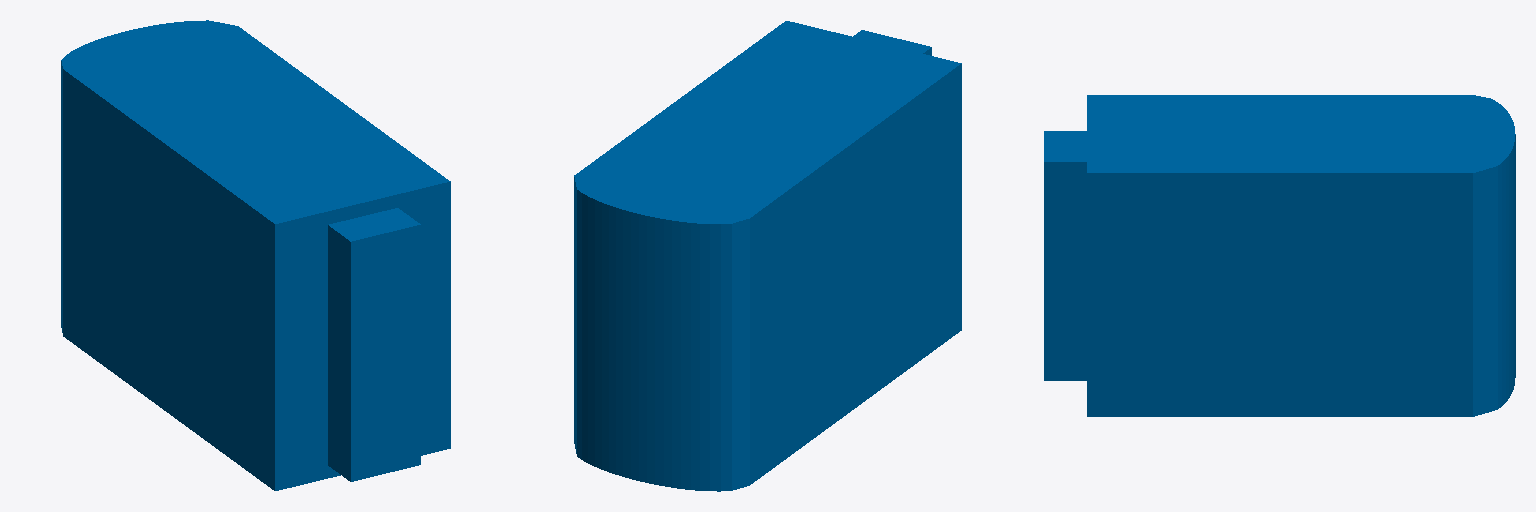
robot.urdf — 3v3_42.5.30.0.27.5_35.0.40.0.25.0_1.0.975_64:
<?xml version="1.0" ?>
<robot name="3v3_42.5.30.0.27.5_35.0.40.0.25.0_1.0.975_64">

    <link name="palm">
        <visual>
            <origin rpy="0 0 0" xyz="0 0 0"/>
            <geometry>
                <mesh filename="obj_files/palm.obj" scale="1 1 1"/>
            </geometry>
        </visual>
        <collision>
            <geometry>
                <mesh filename="obj_files/palm_collision.obj" scale="1 1 1"/>
            </geometry>
        </collision>
    </link>

    <link name="finger0_segment0">
        <visual>
            <origin rpy="0 0 0" xyz="0 0 0"/>
            <geometry>
                <mesh filename="obj_files/finger0_segment0.obj" scale="1 1 1"/>
            </geometry>
        </visual>
        <collision>
            <geometry>
                <mesh filename="obj_files/finger0_segment0_collision.obj" scale="1 1 1"/>
            </geometry>
        </collision>
    </link>

    <joint name="finger0_segment0_joint" type="revolute">
        <parent link="palm"/>
        <child link="finger0_segment0"/>
        <origin rpy="0 0 0" xyz="0.032 0 0.0"/>
        <axis xyz="0 0 1"/>
        <limit effort="1000.0" lower="-3.14" upper="3.14" velocity="0.5"/>
    </joint>

    <link name="finger0_segment1">
        <visual>
            <origin rpy="0 0 0" xyz="0 0 0"/>
            <geometry>
                <mesh filename="obj_files/finger0_segment1.obj" scale="1 1 1"/>
            </geometry>
        </visual>
        <collision>
            <geometry>
                <mesh filename="obj_files/finger0_segment1_collision.obj" scale="1 1 1"/>
            </geometry>
        </collision>
    </link>

    <joint name="finger0_segment1_joint" type="revolute">
        <parent link="finger0_segment0"/>
        <child link="finger0_segment1"/>
        <origin rpy="0 0 0" xyz="0 0.06042531645569619 0"/>
        <axis xyz="0 0 1"/>
        <limit effort="1000.0" lower="-3.14" upper="3.14" velocity="0.5"/>
    </joint>

    <link name="finger0_segment2">
        <visual>
            <origin rpy="0 0 0" xyz="0 0 0"/>
            <geometry>
                <mesh filename="obj_files/finger0_segment2.obj" scale="1 1 1"/>
            </geometry>
        </visual>
        <collision>
            <geometry>
                <mesh filename="obj_files/finger0_segment2_collision.obj" scale="1 1 1"/>
            </geometry>
        </collision>
    </link>

    <joint name="finger0_segment2_joint" type="revolute">
        <parent link="finger0_segment1"/>
        <child link="finger0_segment2"/>
        <origin rpy="0 0 0" xyz="0 0.04265316455696202 0"/>
        <axis xyz="0 0 1"/>
        <limit effort="1000.0" lower="-3.14" upper="3.14" velocity="0.5"/>
    </joint>

    <link name="finger1_segment0">
        <visual>
            <origin rpy="0 0 0" xyz="0 0 0"/>
            <geometry>
                <mesh filename="obj_files/finger1_segment0.obj" scale="1 1 1"/>
            </geometry>
        </visual>
        <collision>
            <geometry>
                <mesh filename="obj_files/finger1_segment0_collision.obj" scale="1 1 1"/>
            </geometry>
        </collision>
    </link>

    <joint name="finger1_segment0_joint" type="revolute">
        <parent link="palm"/>
        <child link="finger1_segment0"/>
        <origin rpy="0 0 0" xyz="-0.032 0 3.91886975727153e-18"/>
        <axis xyz="0 0 1"/>
        <limit effort="1000.0" lower="-3.14" upper="3.14" velocity="0.5"/>
    </joint>

    <link name="finger1_segment1">
        <visual>
            <origin rpy="0 0 0" xyz="0 0 0"/>
            <geometry>
                <mesh filename="obj_files/finger1_segment1.obj" scale="1 1 1"/>
            </geometry>
        </visual>
        <collision>
            <geometry>
                <mesh filename="obj_files/finger1_segment1_collision.obj" scale="1 1 1"/>
            </geometry>
        </collision>
    </link>

    <joint name="finger1_segment1_joint" type="revolute">
        <parent link="finger1_segment0"/>
        <child link="finger1_segment1"/>
        <origin rpy="0 0 0" xyz="0 0.0510379746835443 0"/>
        <axis xyz="0 0 1"/>
        <limit effort="1000.0" lower="-3.14" upper="3.14" velocity="0.5"/>
    </joint>

    <link name="finger1_segment2">
        <visual>
            <origin rpy="0 0 0" xyz="0 0 0"/>
            <geometry>
                <mesh filename="obj_files/finger1_segment2.obj" scale="1 1 1"/>
            </geometry>
        </visual>
        <collision>
            <geometry>
                <mesh filename="obj_files/finger1_segment2_collision.obj" scale="1 1 1"/>
            </geometry>
        </collision>
    </link>

    <joint name="finger1_segment2_joint" type="revolute">
        <parent link="finger1_segment1"/>
        <child link="finger1_segment2"/>
        <origin rpy="0 0 0" xyz="0 0.05832911392405063 0"/>
        <axis xyz="0 0 1"/>
        <limit effort="1000.0" lower="-3.14" upper="3.14" velocity="0.5"/>
    </joint>

</robot>

--- Render facts (derived) ---
Views: 3 orthographic renders of the robot side by side, from view 1: azimuth 30°, elevation 25°; view 2: azimuth 150°, elevation 25°; view 3: azimuth 270°, elevation 25°.
Robot: 3v3_42.5.30.0.27.5_35.0.40.0.25.0_1.0.975_64 — 7 links, 6 joints (6 revolute); root link palm; default pose: every joint at zero.
Links seen in each view (by area): view 1: finger1_segment0; view 2: finger1_segment0; view 3: finger1_segment0.
Boxes of the visible links, x1,y1,x2,y2 form: finger1_segment0: (61, 20, 450, 490); finger1_segment0: (574, 21, 961, 491); finger1_segment0: (1044, 95, 1515, 416).
Size in the robot's own frame: 0.022 by 0.056 by 0.032 metres.
Meshes: 7 distinct files referenced, 1 mesh visuals loaded (1 OBJ); not drawn: 6 (reference not matched to a file when rendering).